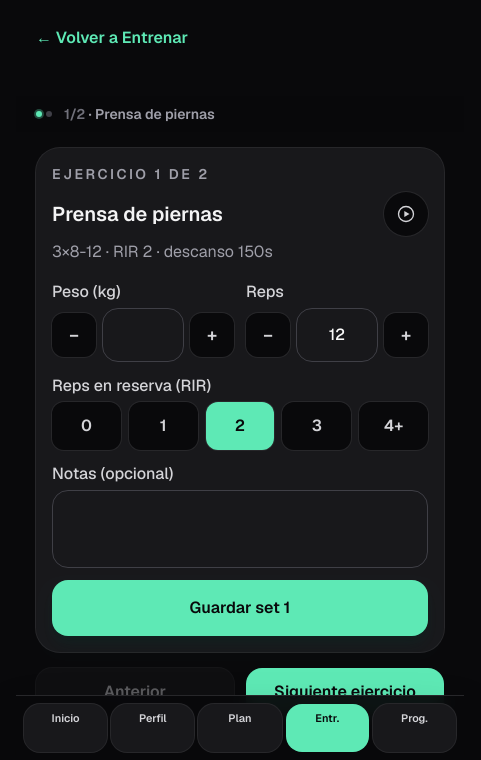
Scenario: SessionRunner › advances and returns between exercises with Anterior/Siguiente ejercicio
Expected: the heading "Prensa de piernas" is shown, [52,200,223,228]
Expected: the button "Anterior" is disabled, [36,668,234,716]
Click the button "Siguiente ejercicio". click: coordinates (345, 692)
box: [246,668,444,716]
(page scrolled)
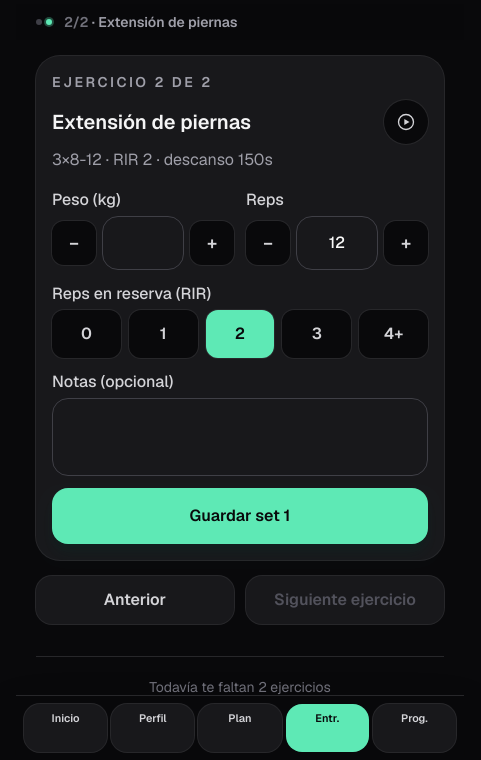
Result: the heading "Extensión de piernas" is shown at [52,108,251,136]
Result: the button "Siguiente ejercicio" is disabled at [246,576,444,624]
Click the button "Anterior". click: coordinates (135, 600)
box: [36,576,234,624]
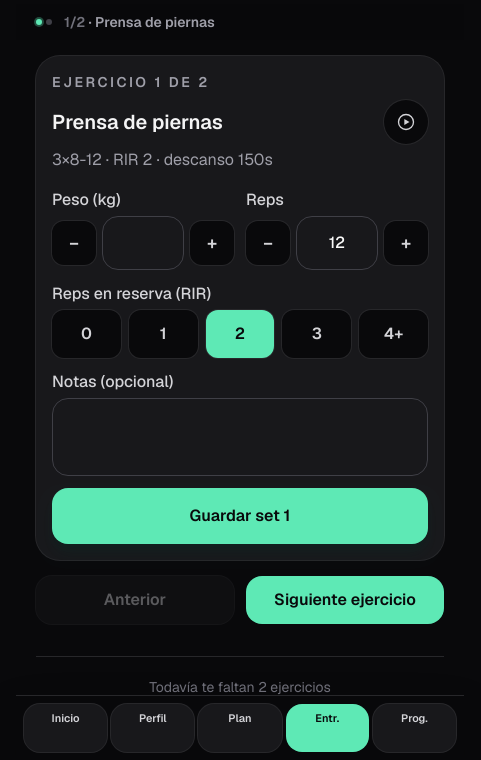
Result: the heading "Prensa de piernas" is shown at [52,108,223,136]
